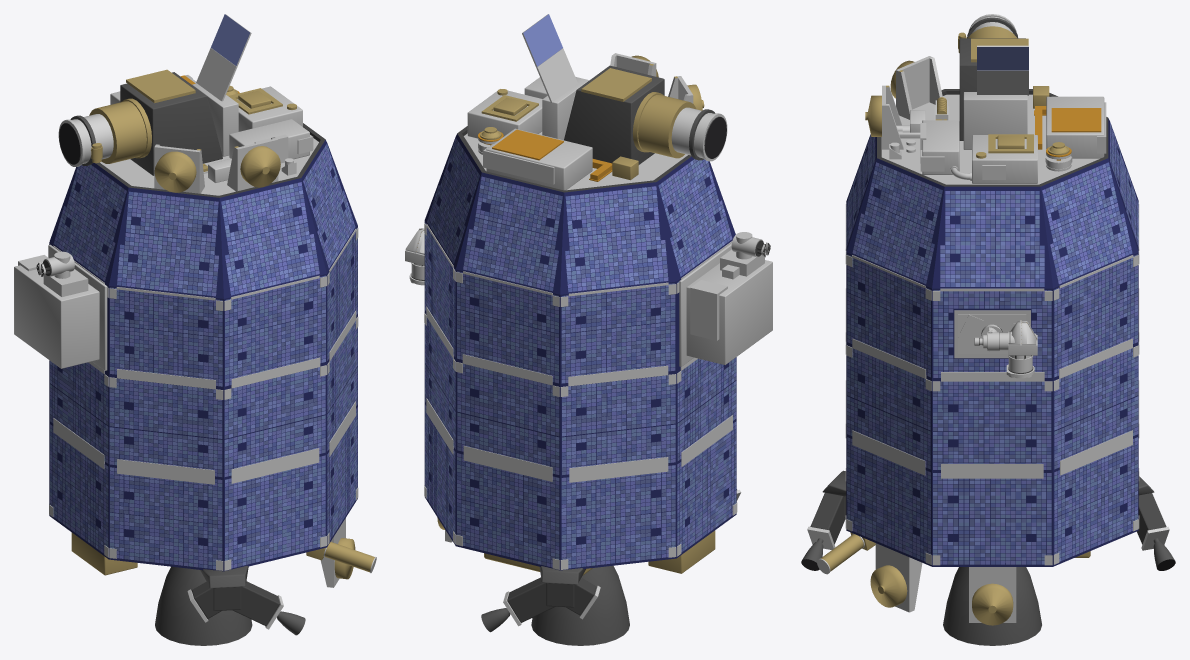
Rendered from ladee.dae.
3 renders of one model, left to right at view 1: azimuth 30°, elevation 25°; view 2: azimuth 150°, elevation 25°; view 3: azimuth 270°, elevation 25°, orthographic.
Visible parts, largest first — view 1: Ladee-mainbody (×15); view 2: Ladee-mainbody (×17); view 3: Ladee-mainbody (×17).
Boxes of the visible parts, x1,y1,x2,y2 form: Ladee-mainbody (×15): (14, 14, 376, 645); Ladee-mainbody (×17): (405, 14, 772, 645); Ladee-mainbody (×17): (802, 14, 1174, 645).
Bounding box in the file's own units: 37.18 × 63.9 × 36.22.
